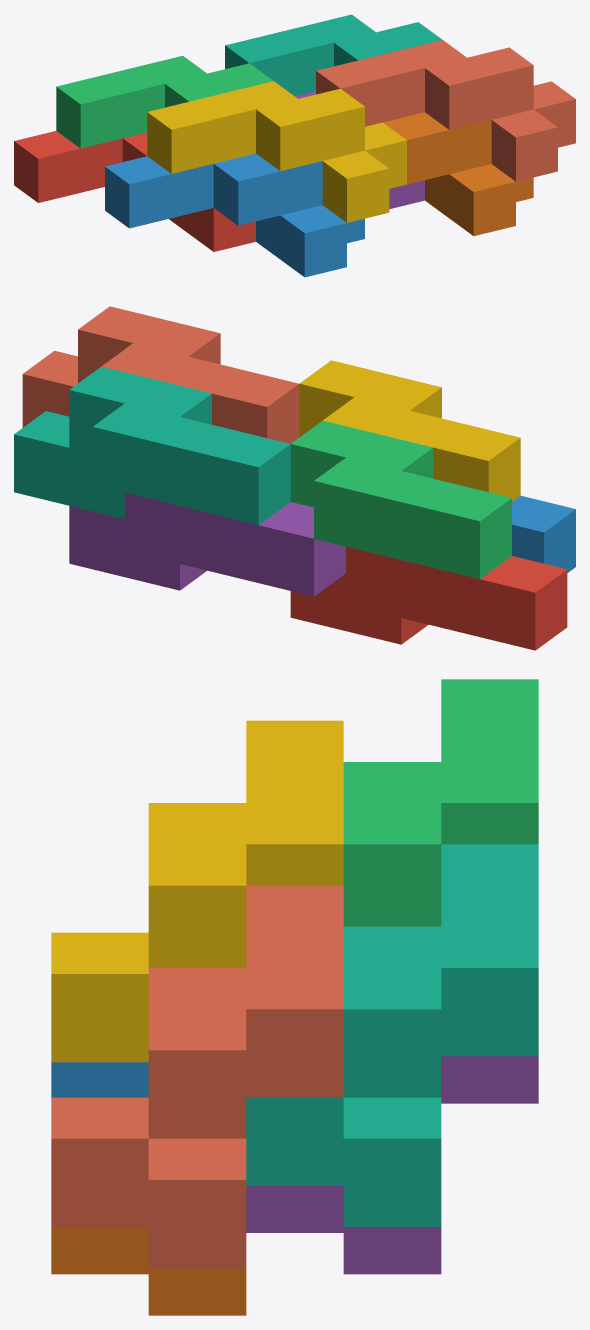
Rendered from tiling.obj.
The picture shows the model from 3 angles, top to bottom: view 1: azimuth 30°, elevation 25°; view 2: azimuth 150°, elevation 25°; view 3: azimuth 270°, elevation 25°; orthographic projection. The views are drawn at different scales.
Parts seen in each view (by area): view 1: copy_1_domain_4, copy_1_domain_8, copy_1_domain_2, copy_1_domain_6, copy_1_domain_3, copy_1_domain_1, copy_1_domain_7, copy_1_domain_5; view 2: copy_1_domain_7, copy_1_domain_3, copy_1_domain_5, copy_1_domain_1, copy_1_domain_8, copy_1_domain_4, copy_1_domain_2; view 3: copy_1_domain_8, copy_1_domain_7, copy_1_domain_4, copy_1_domain_3, copy_1_domain_5, copy_1_domain_6, copy_1_domain_2.
Part boxes in pixels (left/top/right/bottom): copy_1_domain_4: left=147, top=81, right=406, bottom=222; copy_1_domain_8: left=316, top=40, right=575, bottom=181; copy_1_domain_2: left=105, top=153, right=364, bottom=277; copy_1_domain_6: left=383, top=112, right=533, bottom=235; copy_1_domain_3: left=56, top=55, right=273, bottom=148; copy_1_domain_1: left=14, top=131, right=255, bottom=251; copy_1_domain_7: left=225, top=14, right=442, bottom=96; copy_1_domain_5: left=295, top=91, right=424, bottom=209; copy_1_domain_7: left=14, top=366, right=290, bottom=525; copy_1_domain_3: left=290, top=420, right=511, bottom=578; copy_1_domain_5: left=69, top=492, right=345, bottom=596; copy_1_domain_1: left=290, top=546, right=567, bottom=650; copy_1_domain_8: left=22, top=306, right=299, bottom=443; copy_1_domain_4: left=299, top=360, right=520, bottom=501; copy_1_domain_2: left=512, top=495, right=575, bottom=572; copy_1_domain_8: left=51, top=885, right=343, bottom=1268; copy_1_domain_7: left=246, top=844, right=538, bottom=1226; copy_1_domain_4: left=51, top=720, right=343, bottom=1062; copy_1_domain_3: left=343, top=679, right=538, bottom=926; copy_1_domain_5: left=246, top=1056, right=538, bottom=1274; copy_1_domain_6: left=51, top=1227, right=246, bottom=1315; copy_1_domain_2: left=51, top=1062, right=148, bottom=1097.
Bounding box in the file's own units: 11 × 3 × 5.
